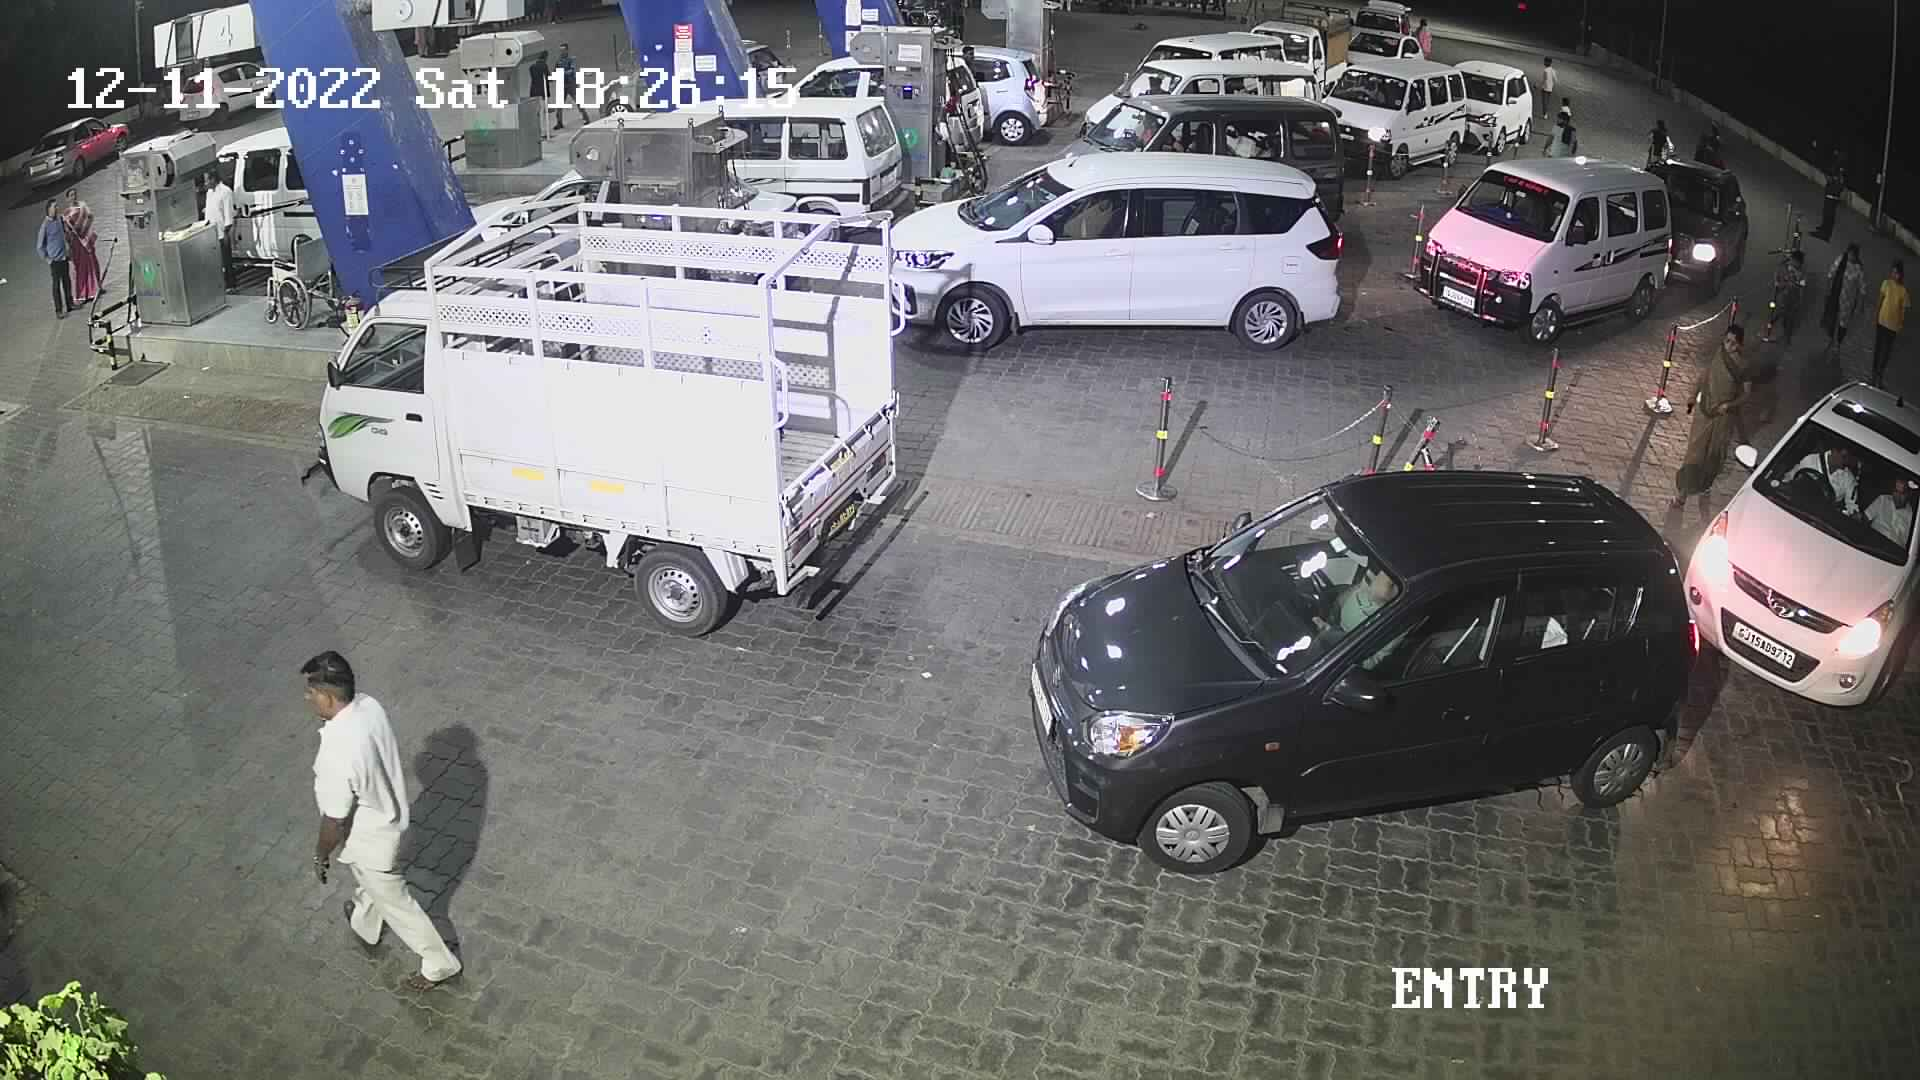Car: (1017, 452, 1706, 884), (291, 189, 916, 644), (876, 144, 1349, 347), (1668, 368, 1913, 721), (1396, 152, 1680, 344), (1038, 90, 1352, 224), (705, 84, 916, 243), (193, 121, 335, 301), (1073, 50, 1324, 135), (1317, 50, 1465, 179), (1629, 146, 1756, 291), (936, 32, 1058, 149), (1242, 1, 1358, 102), (16, 107, 132, 200), (1445, 55, 1535, 158), (167, 53, 282, 131), (1117, 24, 1296, 73), (1344, 0, 1428, 73)
